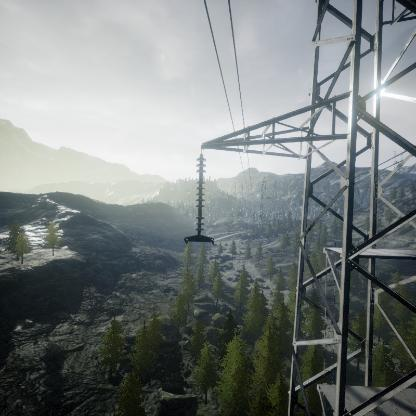insulator: (195, 154, 208, 234)
